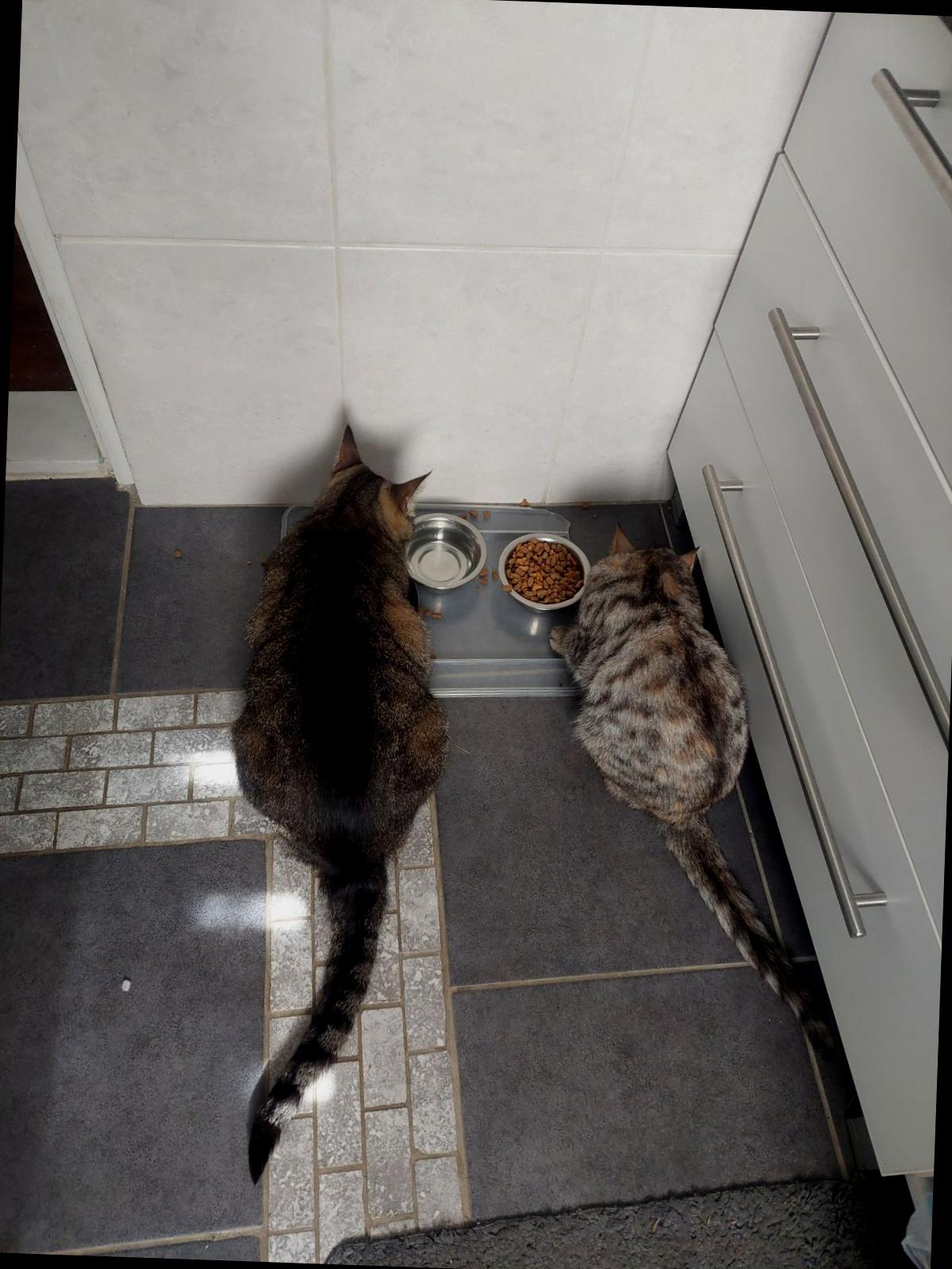macka: (217, 417, 461, 1193), (534, 517, 860, 1065)
